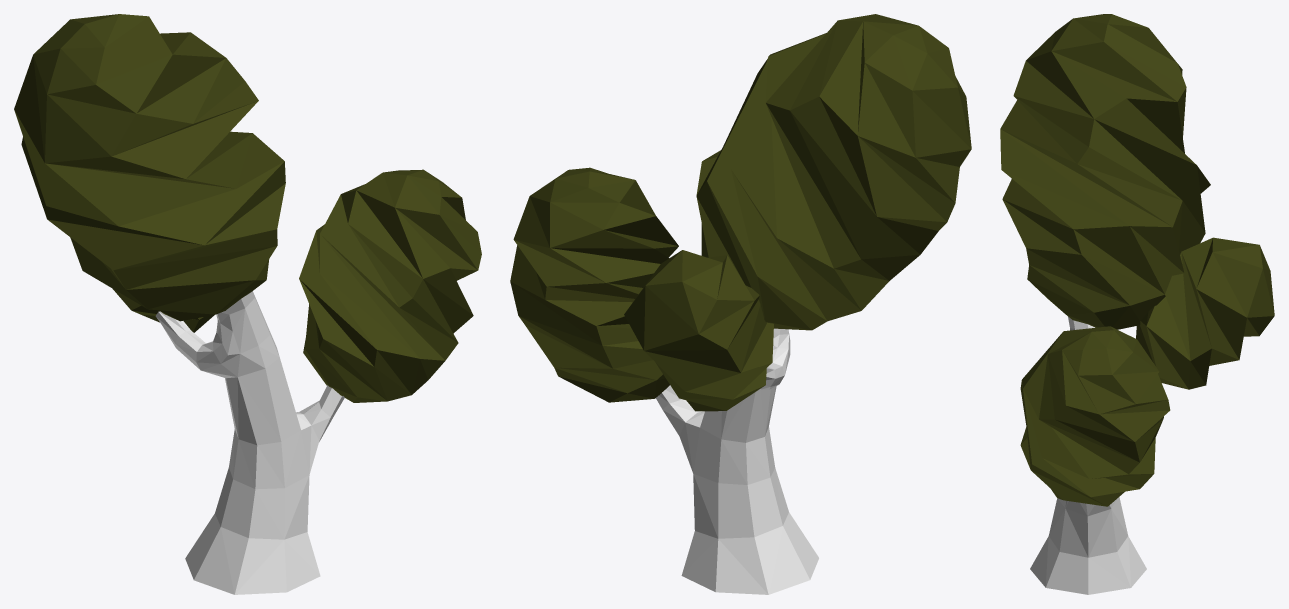
The model's file is tree_solid_06a.fbx.
3 renders of one model, left to right at view 1: azimuth 30°, elevation 25°; view 2: azimuth 150°, elevation 25°; view 3: azimuth 270°, elevation 25°, orthographic. The views are drawn at different scales.
Parts seen in each view (by area): view 1: tree_solid_06; view 2: tree_solid_06; view 3: tree_solid_06.
Part boxes in pixels (x1,y1,x2,y2): tree_solid_06: (14,14,481,594); tree_solid_06: (510,14,971,594); tree_solid_06: (1000,14,1274,594).
Size of the model in its own units: 8.19 by 10.43 by 5.24.
